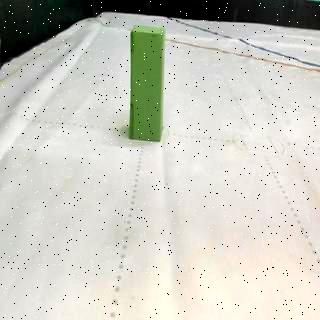greenbox: (128, 22, 164, 144)
